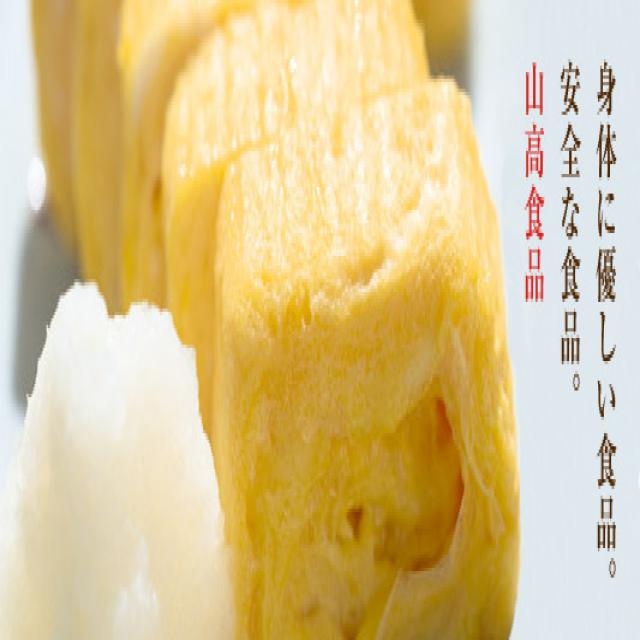鸡蛋料理: (22, 0, 521, 640)
